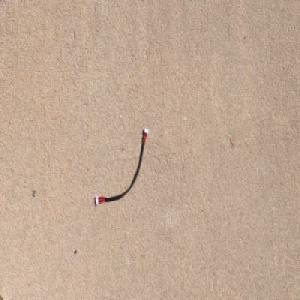Wire: (95, 127, 149, 207)
